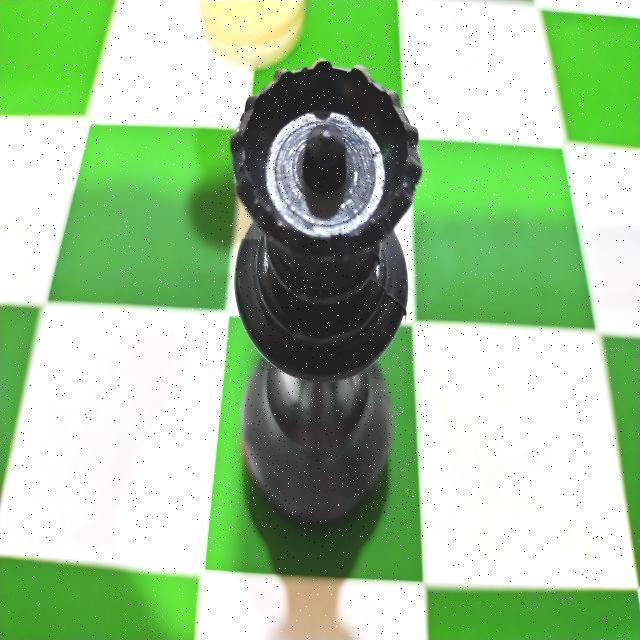black-queen: (228, 58, 422, 524)
